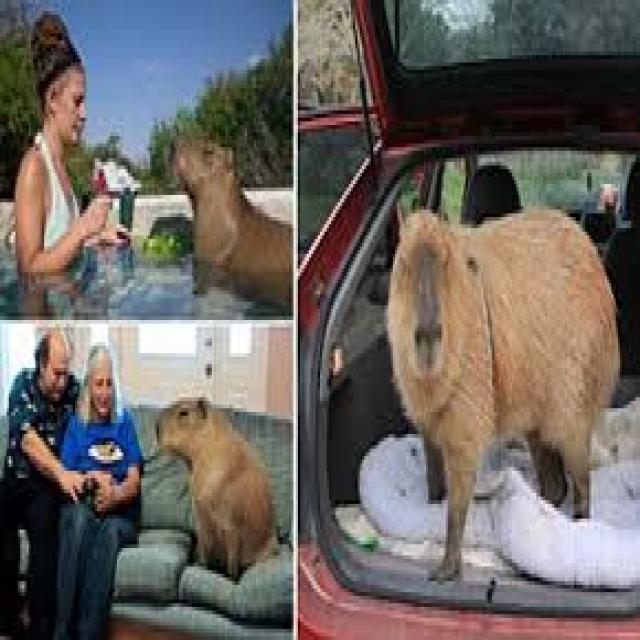capy: (385, 201, 622, 587), (154, 390, 277, 584), (169, 131, 294, 284)
